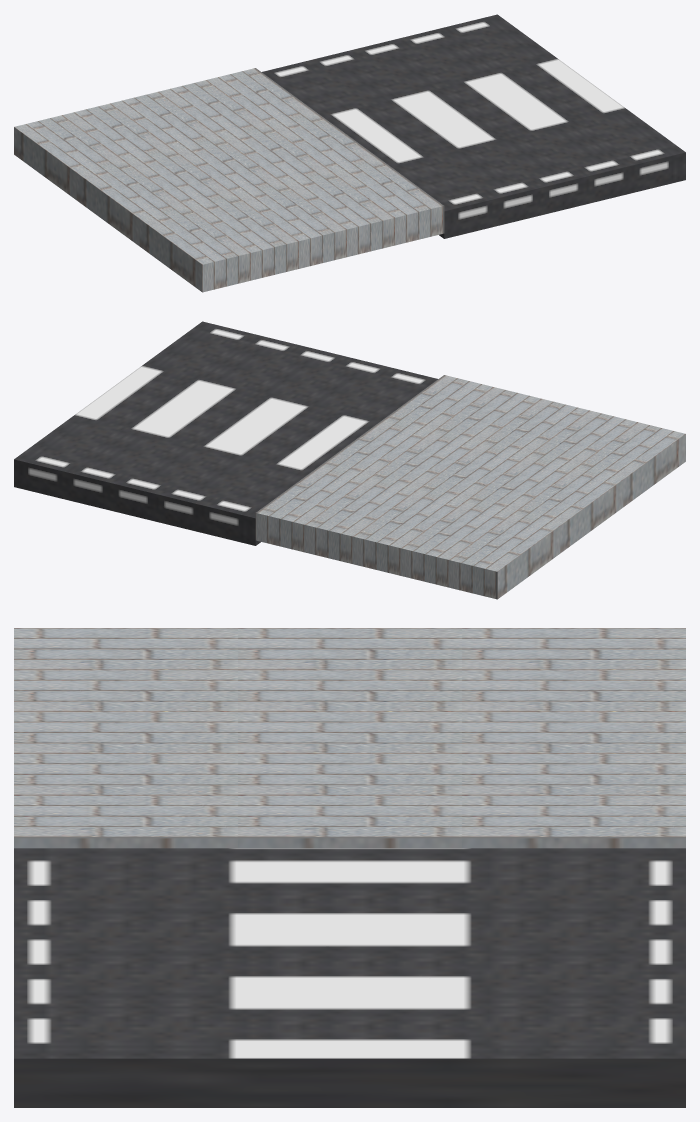
The model's file is british_road_zebra_crossing_offset.obj.
3 renders of one model, top to bottom at view 1: azimuth 30°, elevation 25°; view 2: azimuth 150°, elevation 25°; view 3: azimuth 270°, elevation 25°, orthographic. The views are drawn at different scales.
Visible parts, largest first — view 1: cube; view 2: cube; view 3: cube.
Boxes of the visible parts, x1,y1,x2,y2 form: cube: [14, 14, 685, 292]; cube: [14, 321, 685, 599]; cube: [14, 628, 685, 1107].
Bounding box in the file's own units: 10 × 0.6562 × 6.75.
Materials: 2 (2 with a texture image).
